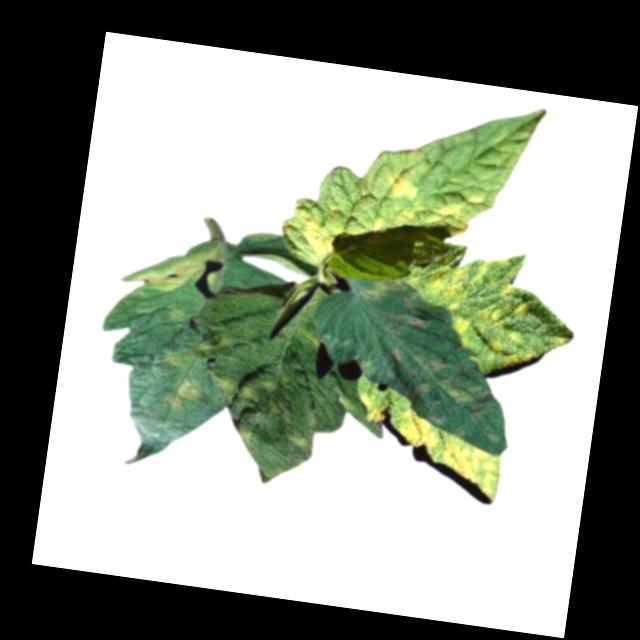Leaf_Mold: (417, 240, 584, 380), (345, 394, 507, 504), (378, 342, 513, 443), (121, 234, 222, 301), (355, 274, 434, 337), (205, 366, 280, 418), (283, 206, 340, 261), (374, 145, 426, 203), (159, 374, 204, 420), (422, 201, 471, 238), (284, 425, 317, 459), (369, 211, 386, 233)
